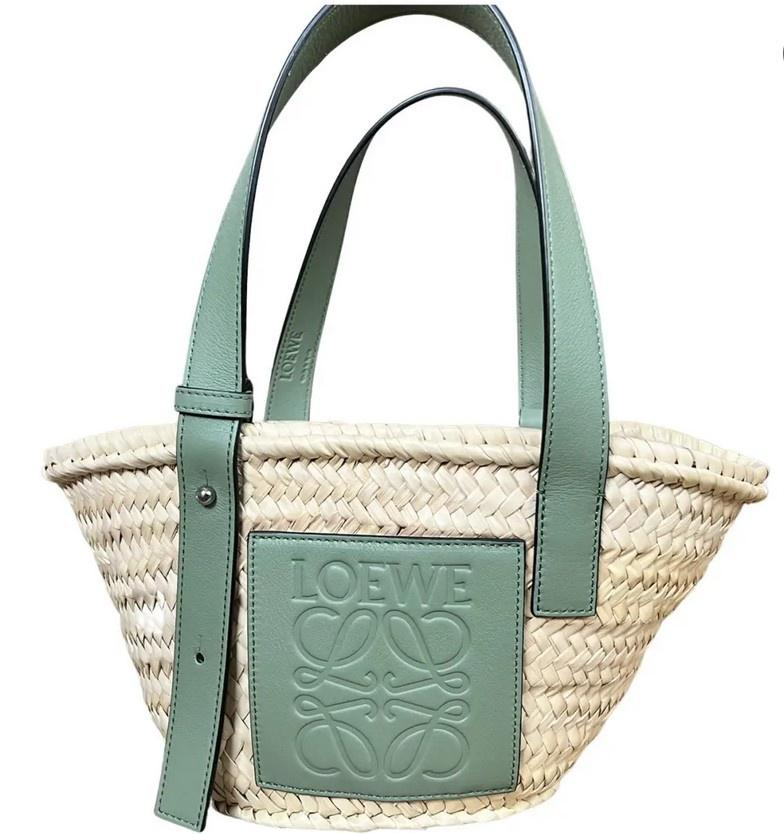LOEWE: (278, 598, 480, 789)
